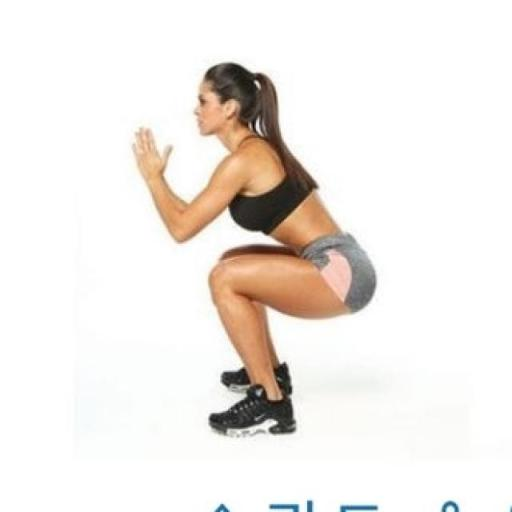Normal_BrenchPress: (130, 62, 378, 439)
